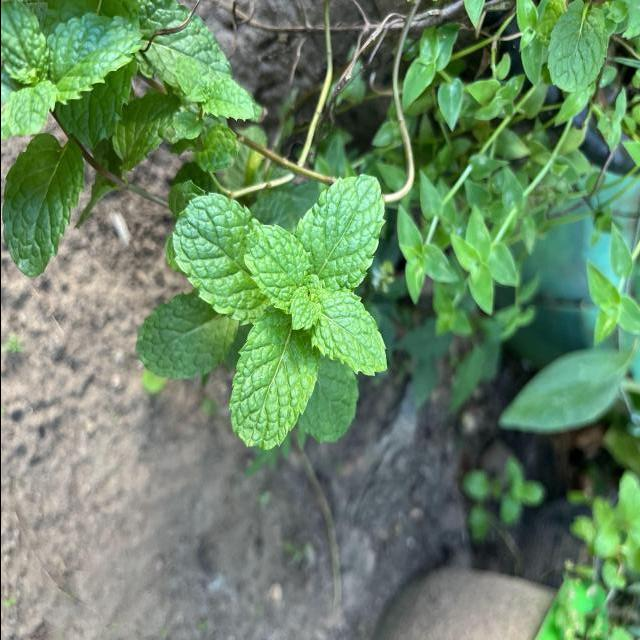Mentha spicata: (226, 306, 320, 452), (168, 192, 262, 326), (294, 172, 386, 290), (310, 287, 388, 379), (242, 223, 310, 314)
